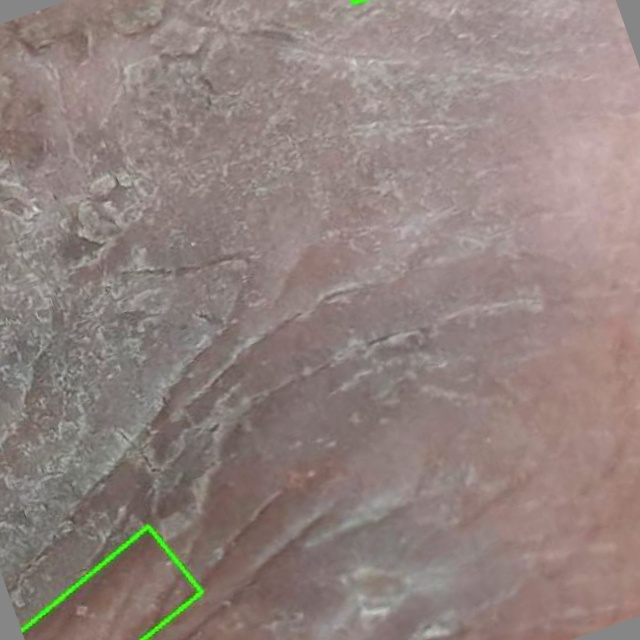Eczema: (20, 526, 200, 639)
